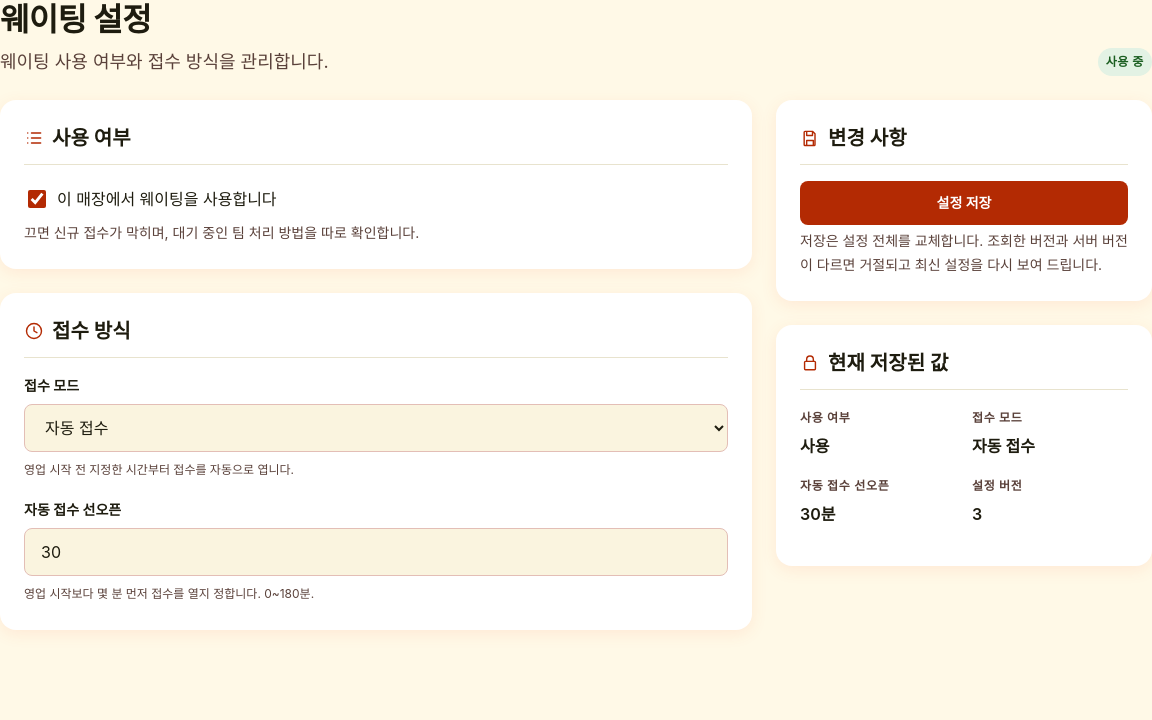
it: 웨이팅 설정 화면 › 202 이후 서버가 완료로 바꾸면 화면도 완료로 바뀐다
This screenshot has width=1152, height=720.
Click the checkbox labelled "이 매장에서 웨이팅을 사용합니다": point(37, 199) [28,190,46,208]
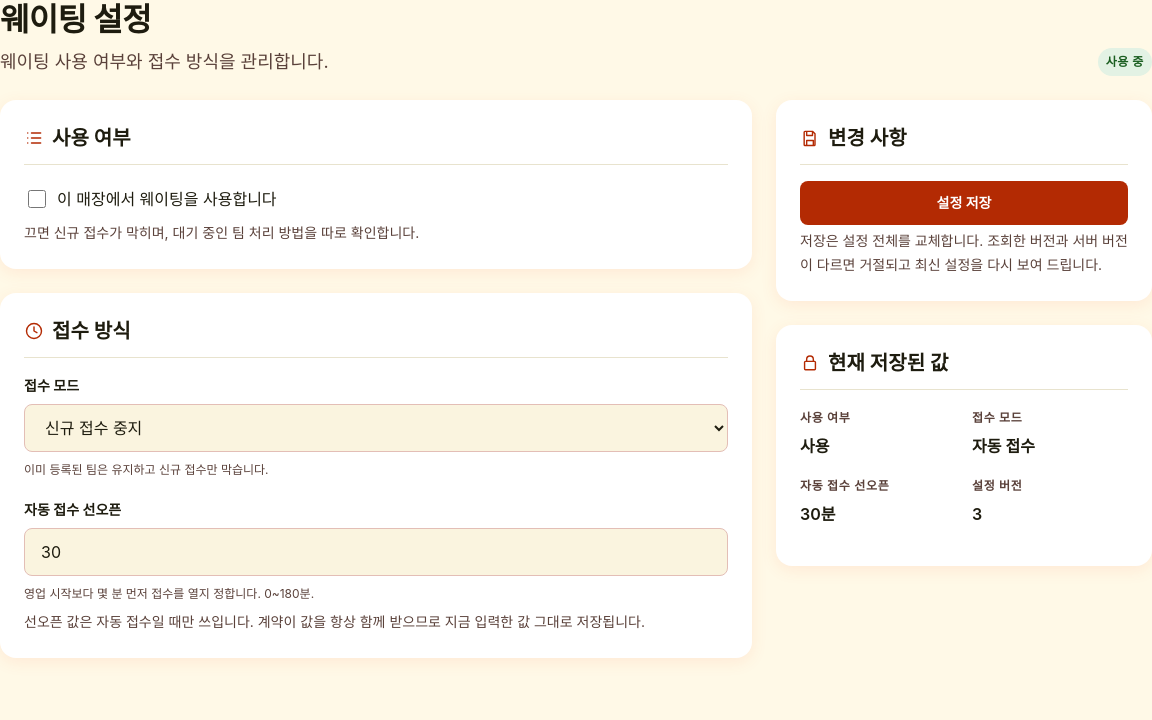
Click the button "설정 저장": point(964, 203) [800,181,1128,225]
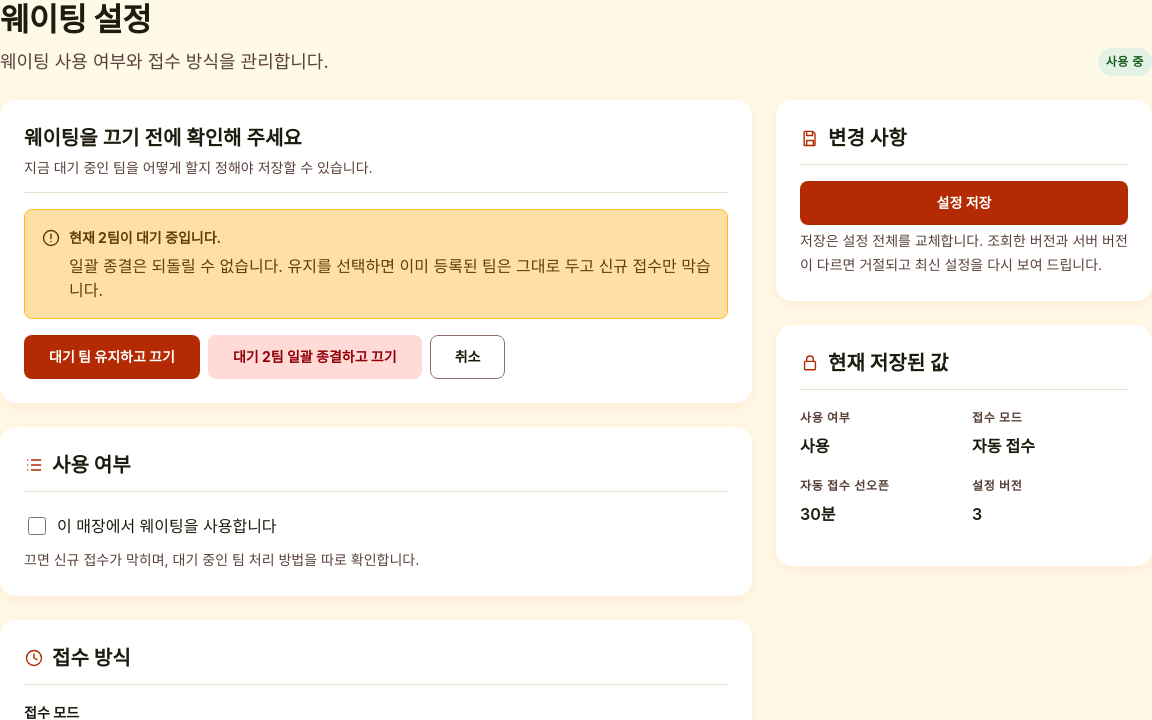
Click the button "대기 2팀 일괄 종결하고 끄기": point(315, 357) [208,335,422,379]
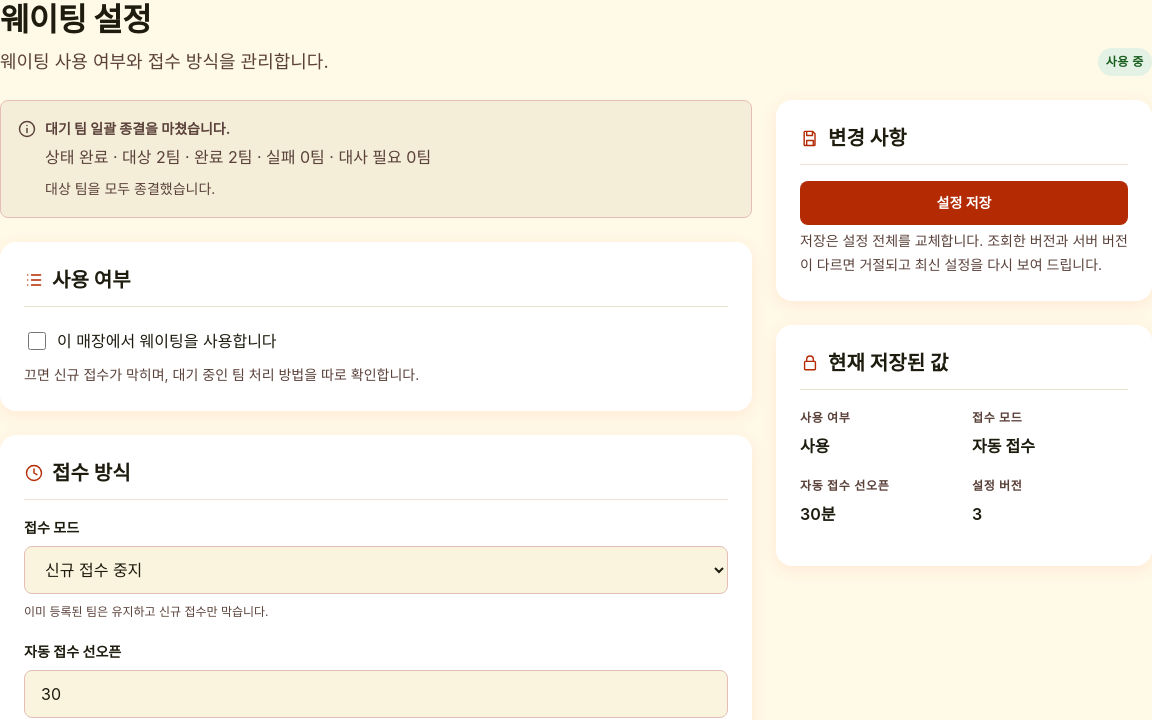
Expected: the text "대기 팀 일괄 종결을 마쳤습니다." is shown, [45,120,230,137]
Expected: the text "상태 완료 · 대상 2팀 · 완료 2팀 · 실패 0팀 · 대사 필요 0팀" is shown, [45,147,431,167]
